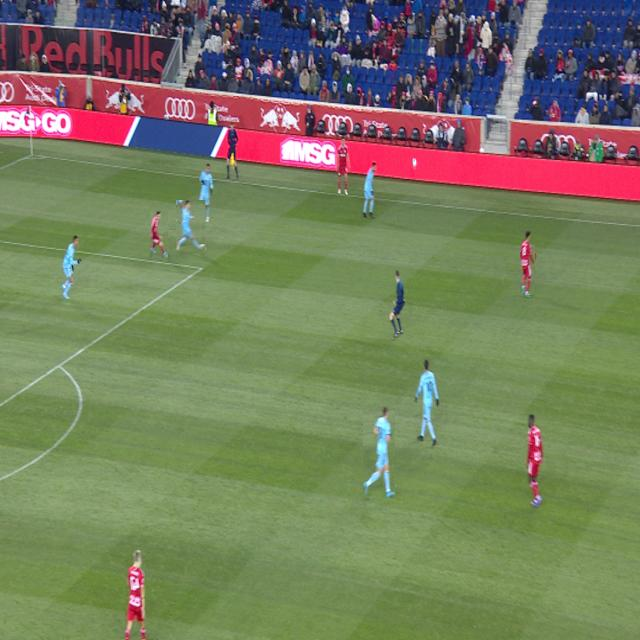football: (412, 158, 417, 168)
player: (364, 407, 395, 498), (414, 360, 439, 446), (125, 549, 146, 640), (526, 414, 543, 507), (177, 201, 205, 250), (62, 235, 81, 300), (521, 232, 535, 296), (199, 164, 213, 223), (151, 212, 168, 258), (337, 136, 350, 196), (363, 162, 376, 218)
referee: (389, 270, 405, 340)
